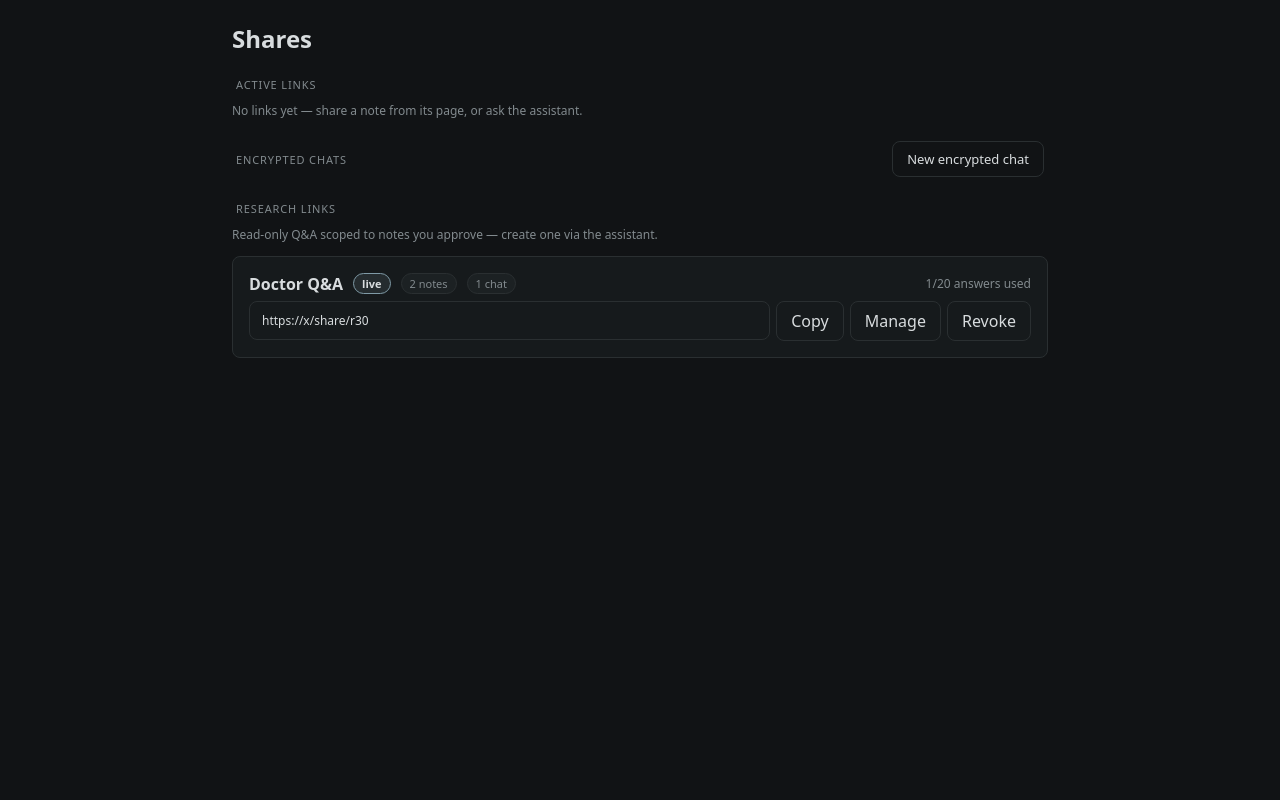
Test: SharesPage — research links › Manage: lists a session and loads its transcript on View
Expected: the text "Doctor Q&A" is shown, [249,273,343,295]
Click the button "Manage" at (895, 321), box [850,301,941,341]
(page scrolled)
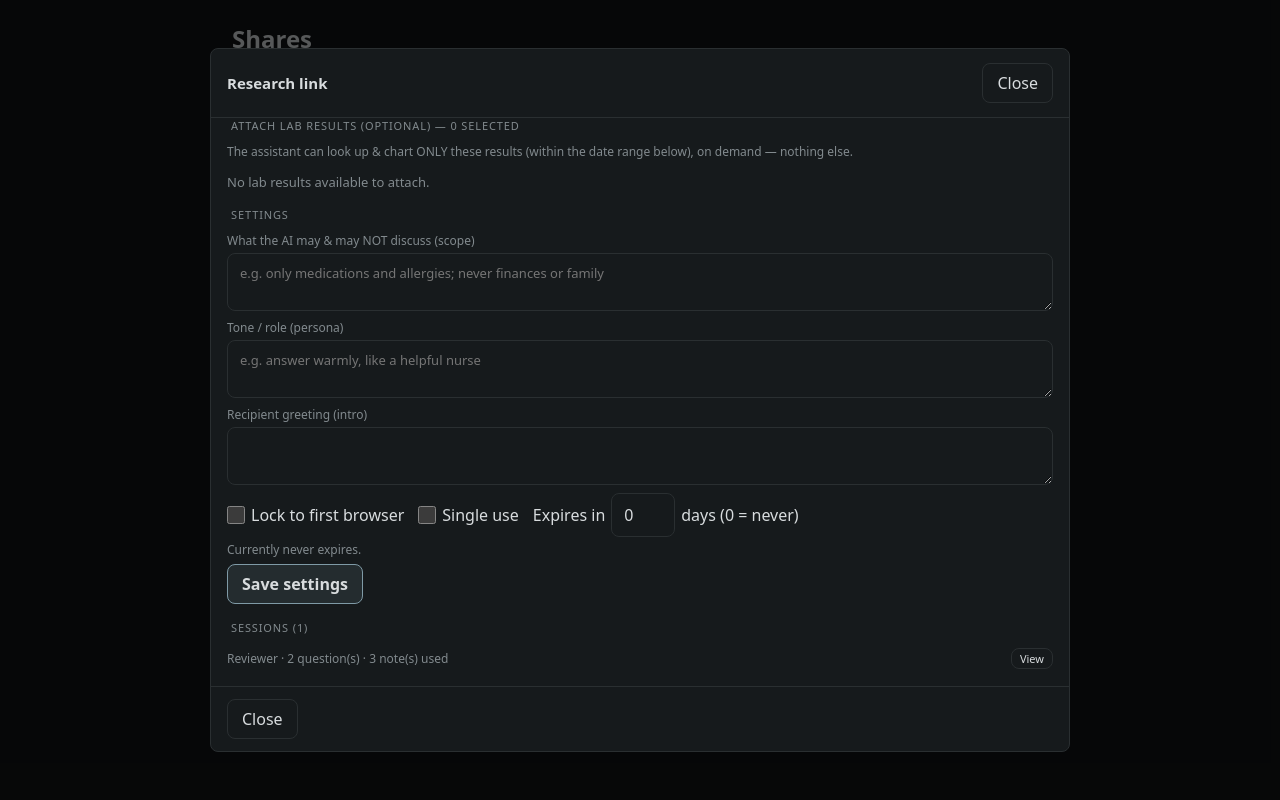
Expected: the text "Reviewer · 2 question(s) · 3 note(s) used" is shown, [227,650,448,667]
Click the button "View" at (1032, 658), box [1011,648,1053,669]
(page scrolled)
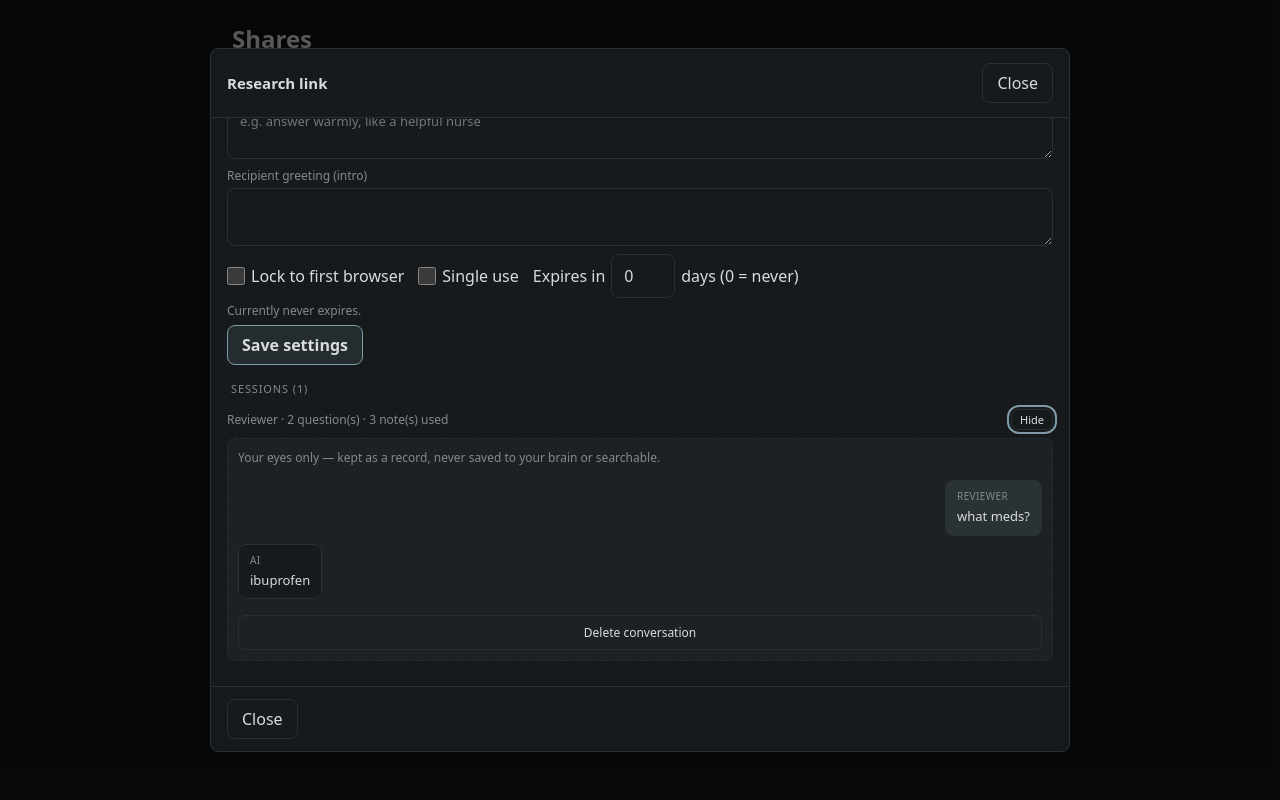
Expected: the text "ibuprofen" is shown, [250,570,310,588]
